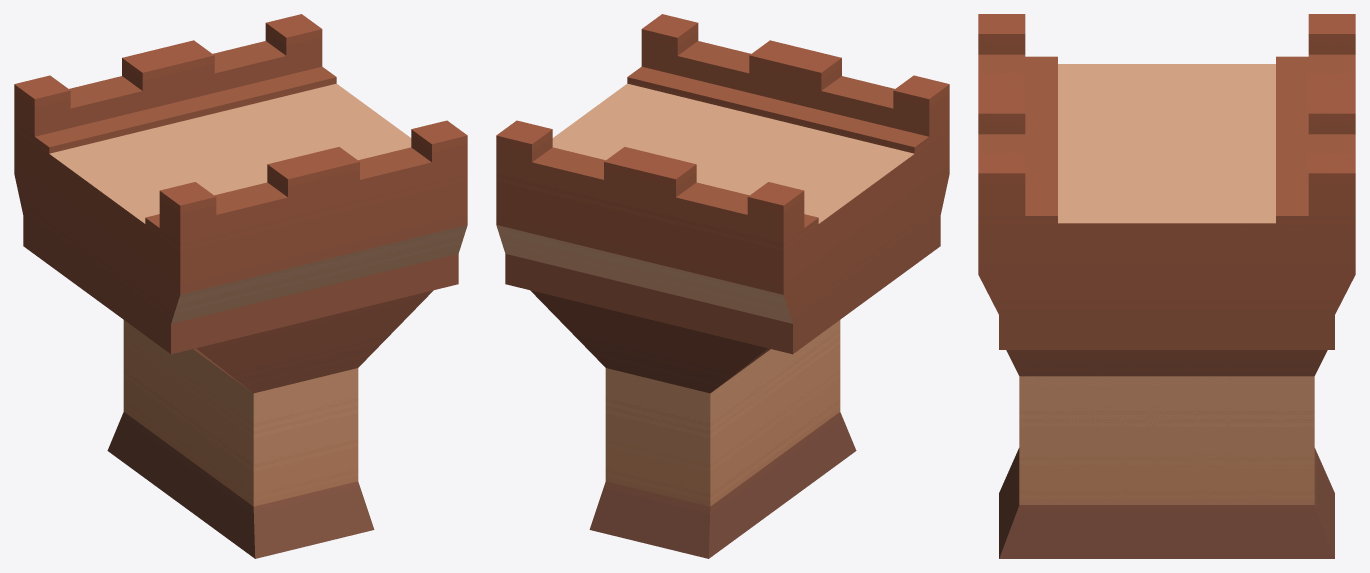
The model's file is bridge-straight-pillar.glb.
The picture shows the model from 3 angles, left to right: view 1: azimuth 30°, elevation 25°; view 2: azimuth 150°, elevation 25°; view 3: azimuth 270°, elevation 25°; orthographic projection. The views are drawn at different scales.
Parts seen in each view (by area): view 1: bridge-straight-pillar; view 2: bridge-straight-pillar; view 3: bridge-straight-pillar.
Part boxes in pixels (x1,y1,x2,y2): bridge-straight-pillar: [14, 14, 467, 558]; bridge-straight-pillar: [496, 14, 949, 558]; bridge-straight-pillar: [978, 14, 1355, 558].
Bounding box in the file's own units: 2.79 × 3.53 × 2.79.
Materials: 1 (1 with a texture image).
